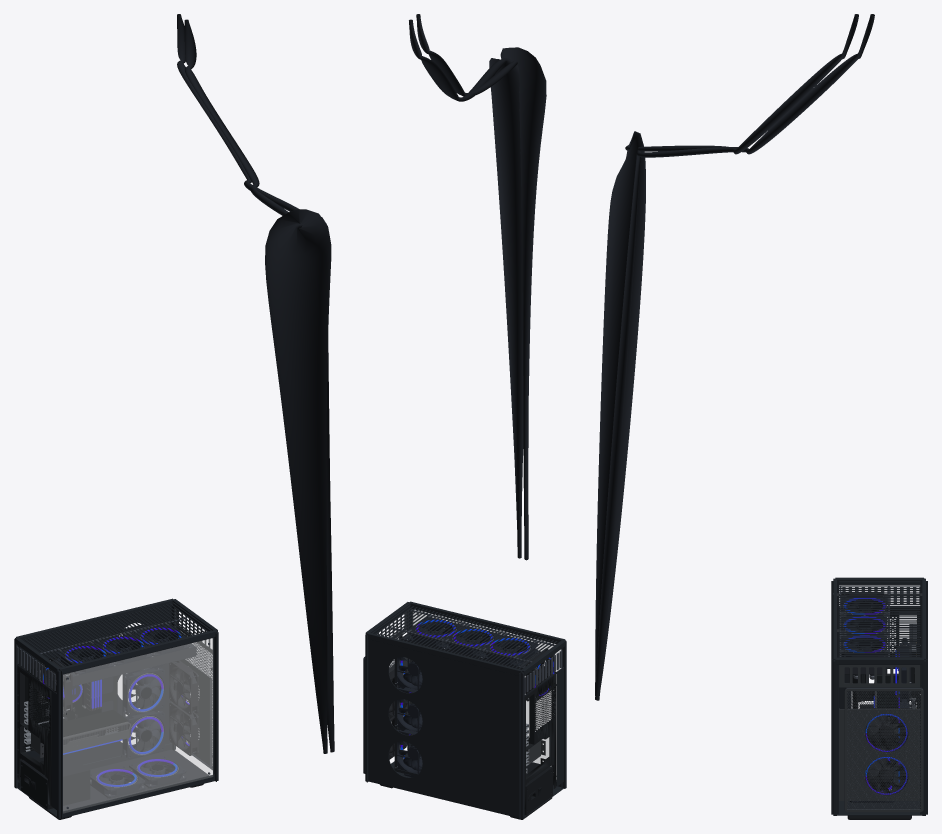
The model's file is pc-hardware.glb.
3 renders of one model, left to right at view 1: azimuth 30°, elevation 25°; view 2: azimuth 150°, elevation 25°; view 3: azimuth 270°, elevation 25°, orthographic. The views are drawn at different scales.
Parts seen in each view (by area): view 1: HW_glass, HW_hose_0, HW_frame, HW_lid, Ventilated New case / back cable panel, HW_hose_1, HW_gpu, HW_psu, HW_radiator, Ventilated New case / formed floor, HW_board, Precision / front dual-fan pierced carrier (+7 smaller); view 2: Ventilated New case / back cable panel, HW_hose_1, HW_frame, HW_hose_0, HW_lid, HW_psu, HW_radiator, HW_glass, HW_aio_fan_1, HW_aio_fan_2, HW_aio_fan_3, HW_aio_fan_1__51__HW_side_fan_2 (+3 smaller); view 3: HW_hose_0, HW_lid, Refined fascia / regular deburred hex mesh, HW_hose_1, HW_frame, Precision / front dual-fan pierced carrier, Refined fascia / continuous folded perimeter, Precision / upper front slotted header, Ventilated New case / formed floor, Rotor_HW_case_fan_1_2_blades, Rotor_HW_case_fan_2_4_blades, HW_gpu (+1 smaller).
Part boxes in pixels (x1=…): HW_glass: x1=62, y1=637, x2=214, y2=814; HW_hose_0: x1=184, y1=19, x2=331, y2=753; HW_frame: x1=14, y1=602, x2=218, y2=819; HW_lid: x1=15, y1=598, x2=217, y2=671; Ventilated New case / back cable panel: x1=20, y1=606, x2=171, y2=779; HW_hose_1: x1=177, y1=14, x2=334, y2=752; HW_gpu: x1=31, y1=710, x2=131, y2=757; HW_psu: x1=20, y1=754, x2=90, y2=809; HW_radiator: x1=40, y1=617, x2=196, y2=686; Ventilated New case / formed floor: x1=17, y1=750, x2=214, y2=818; HW_board: x1=24, y1=666, x2=101, y2=752; Precision / front dual-fan pierced carrier: x1=174, y1=659, x2=212, y2=766; Ventilated New case / back cable panel: x1=368, y1=639, x2=519, y2=817; HW_hose_1: x1=409, y1=19, x2=523, y2=558; HW_frame: x1=365, y1=605, x2=566, y2=819; HW_hose_0: x1=416, y1=14, x2=546, y2=560; HW_lid: x1=365, y1=601, x2=566, y2=673; HW_psu: x1=524, y1=762, x2=552, y2=815; HW_radiator: x1=387, y1=609, x2=555, y2=675; HW_glass: x1=412, y1=609, x2=560, y2=776; HW_aio_fan_1: x1=482, y1=635, x2=538, y2=666; HW_aio_fan_2: x1=445, y1=626, x2=500, y2=657; HW_aio_fan_3: x1=407, y1=617, x2=463, y2=648; HW_aio_fan_1__51__HW_side_fan_2: x1=397, y1=686, x2=420, y2=732; HW_hose_0: x1=595, y1=14, x2=858, y2=695; HW_lid: x1=833, y1=577, x2=925, y2=662; Refined fascia / regular deburred hex mesh: x1=847, y1=691, x2=920, y2=809; HW_hose_1: x1=595, y1=14, x2=874, y2=700; HW_frame: x1=831, y1=581, x2=927, y2=819; Precision / front dual-fan pierced carrier: x1=839, y1=709, x2=920, y2=800; Refined fascia / continuous folded perimeter: x1=844, y1=687, x2=923, y2=812; Precision / upper front slotted header: x1=839, y1=665, x2=920, y2=687; Ventilated New case / formed floor: x1=837, y1=761, x2=922, y2=815; Rotor_HW_case_fan_1_2_blades: x1=865, y1=715, x2=907, y2=750; Rotor_HW_case_fan_2_4_blades: x1=866, y1=758, x2=908, y2=793; HW_gpu: x1=873, y1=673, x2=898, y2=735.
Bounding box in the file's own units: 0.5518 × 2.33 × 0.8795.
Materials: 30 (1 with a texture image).
